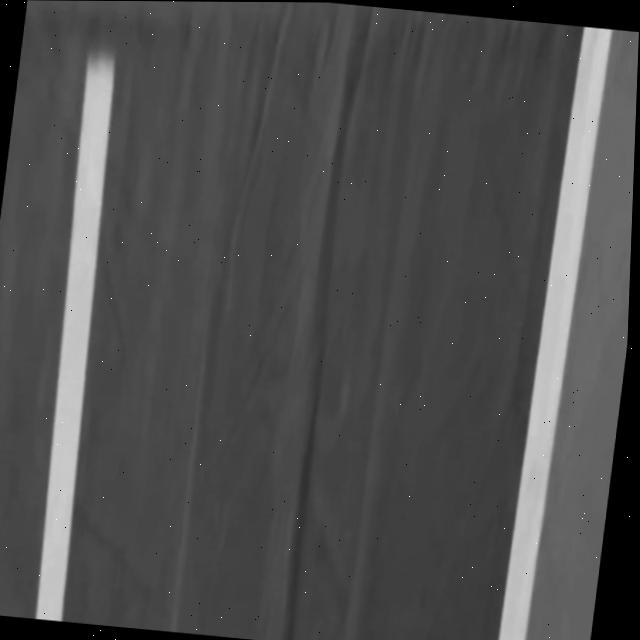center: (34, 50, 113, 621)
right: (498, 26, 611, 640)
